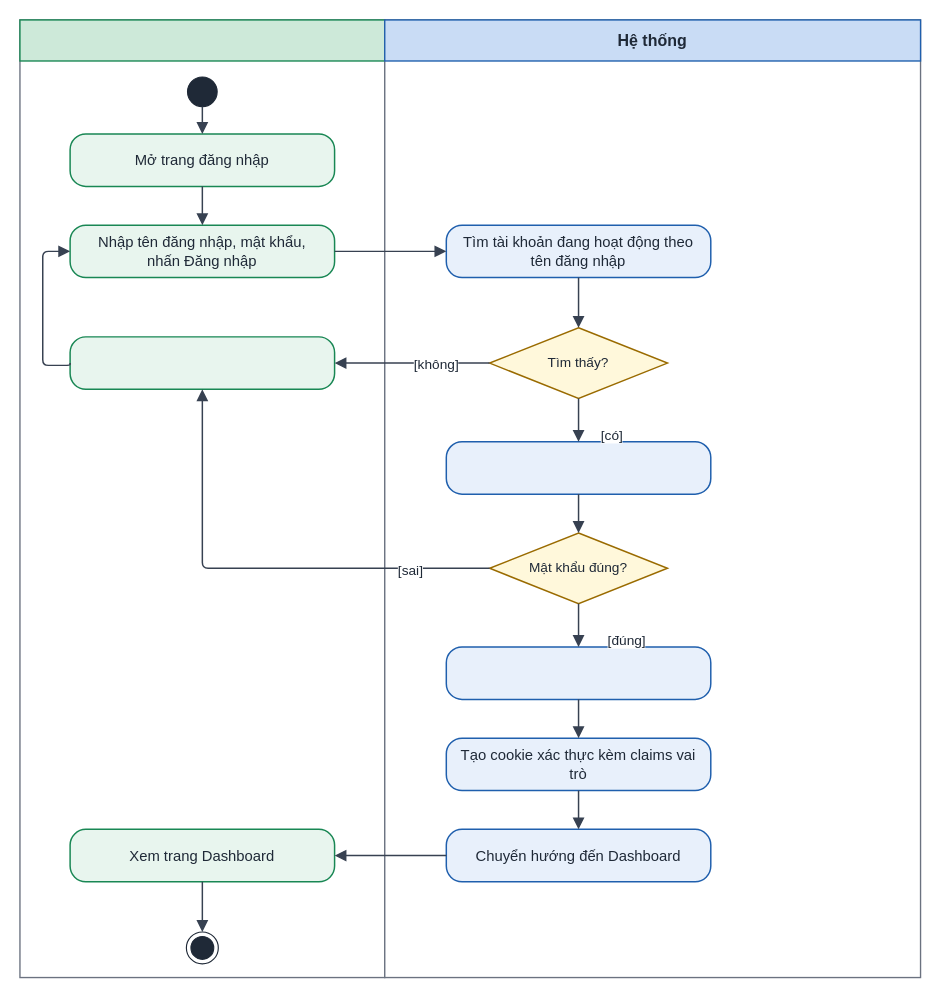
Some shapes in this 942 by 999 pixel diagram are drawn without their labels. Here are the shapes that lost their labels. From the top down, the centre of each, then its label:
pixel 202 40: Nhân viên
pixel 202 363: Xem thông báo lỗi đăng nhập
pixel 578 467: Kiểm tra mật khẩu bằng BCrypt.Verify
pixel 578 673: Cập nhật thời điểm đăng nhập cuối
